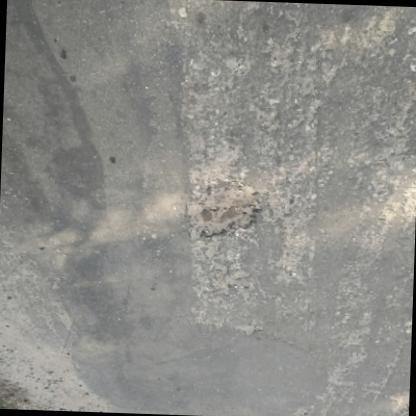pothole: (195, 178, 266, 240)
